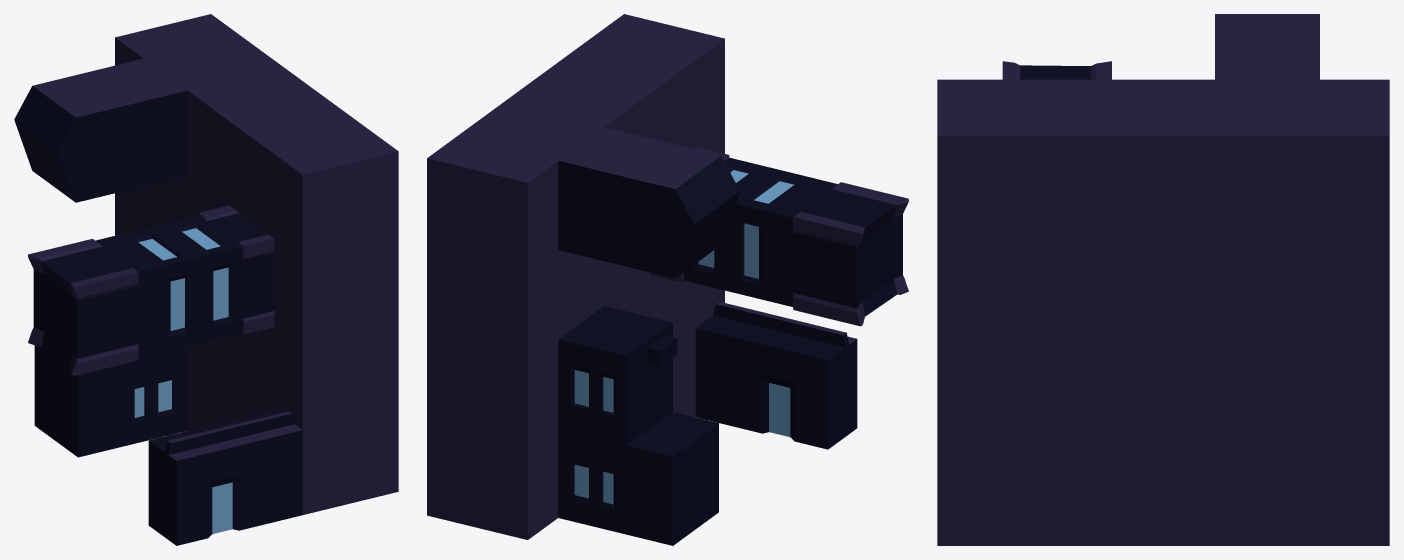
File: Map_City_normal_Two.fbx
The picture shows the model from 3 angles, left to right: view 1: azimuth 30°, elevation 25°; view 2: azimuth 150°, elevation 25°; view 3: azimuth 270°, elevation 25°; orthographic projection. The views are drawn at different scales.
Parts seen in each view (by area): view 1: Cube.009; view 2: Cube.009; view 3: Cube.009.
Boxes of the visible parts, x1,y1,x2,y2 form: Cube.009: (14, 14, 398, 545); Cube.009: (427, 14, 908, 545); Cube.009: (937, 14, 1389, 545).
Size of the model in its own units: 400 by 400 by 368.
